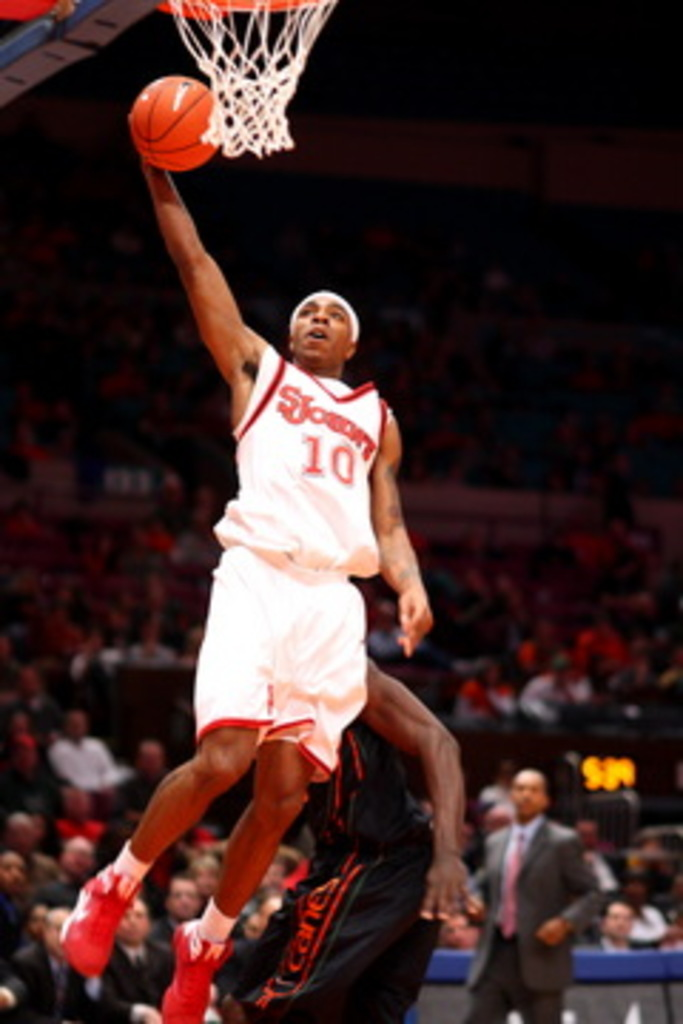Person: (0, 469, 683, 1024)
